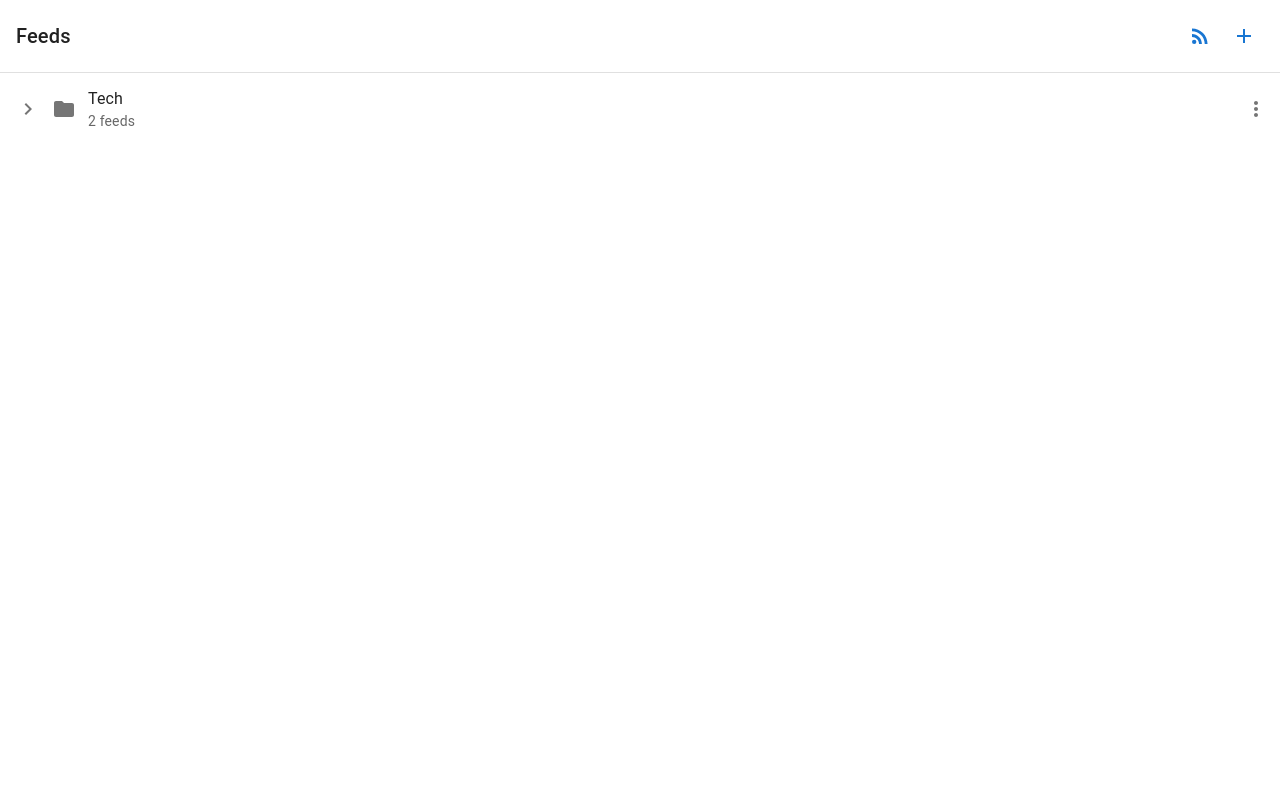
Test: CategoryList › category editing › should open edit dialog when clicking edit button
Open context menu
Click the button named "category options": (1256, 109) [1236,89,1276,129]
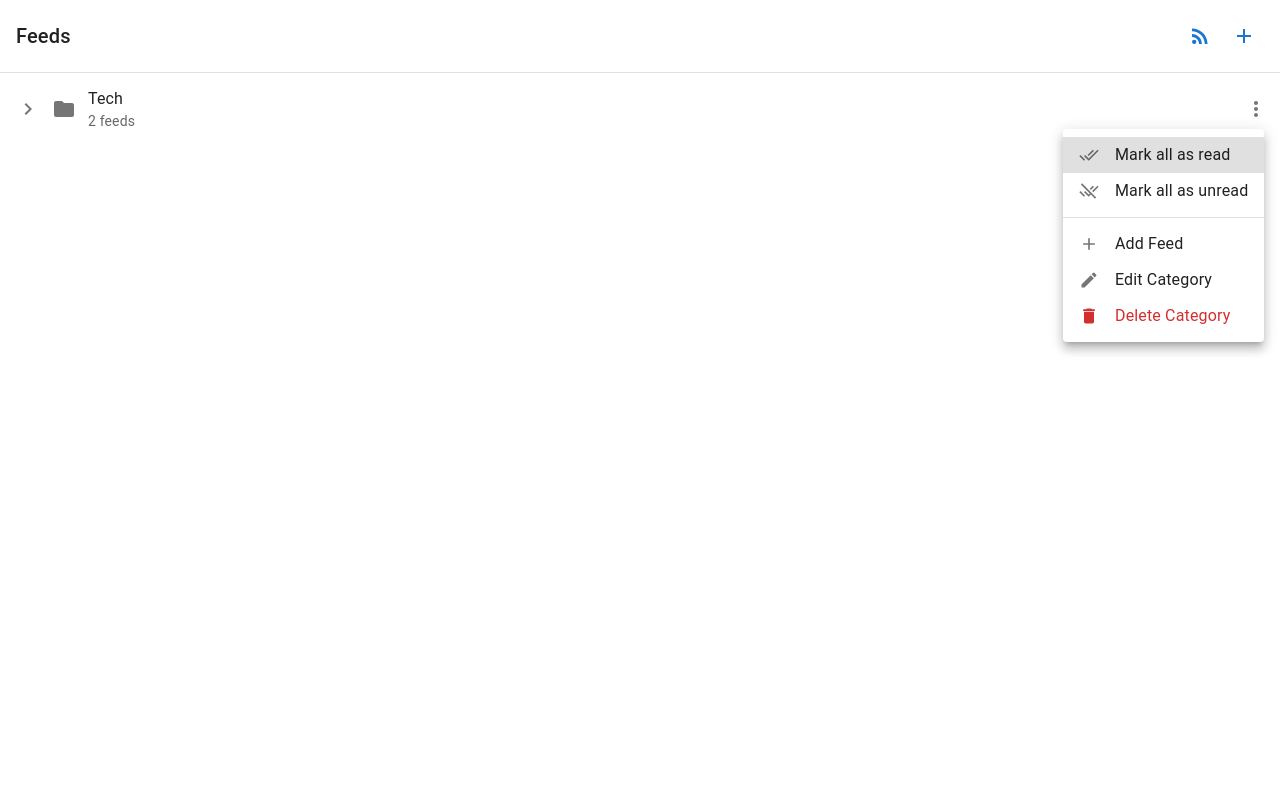
Click the menu item "Edit Category": (1146, 280) [1079,270,1212,290]
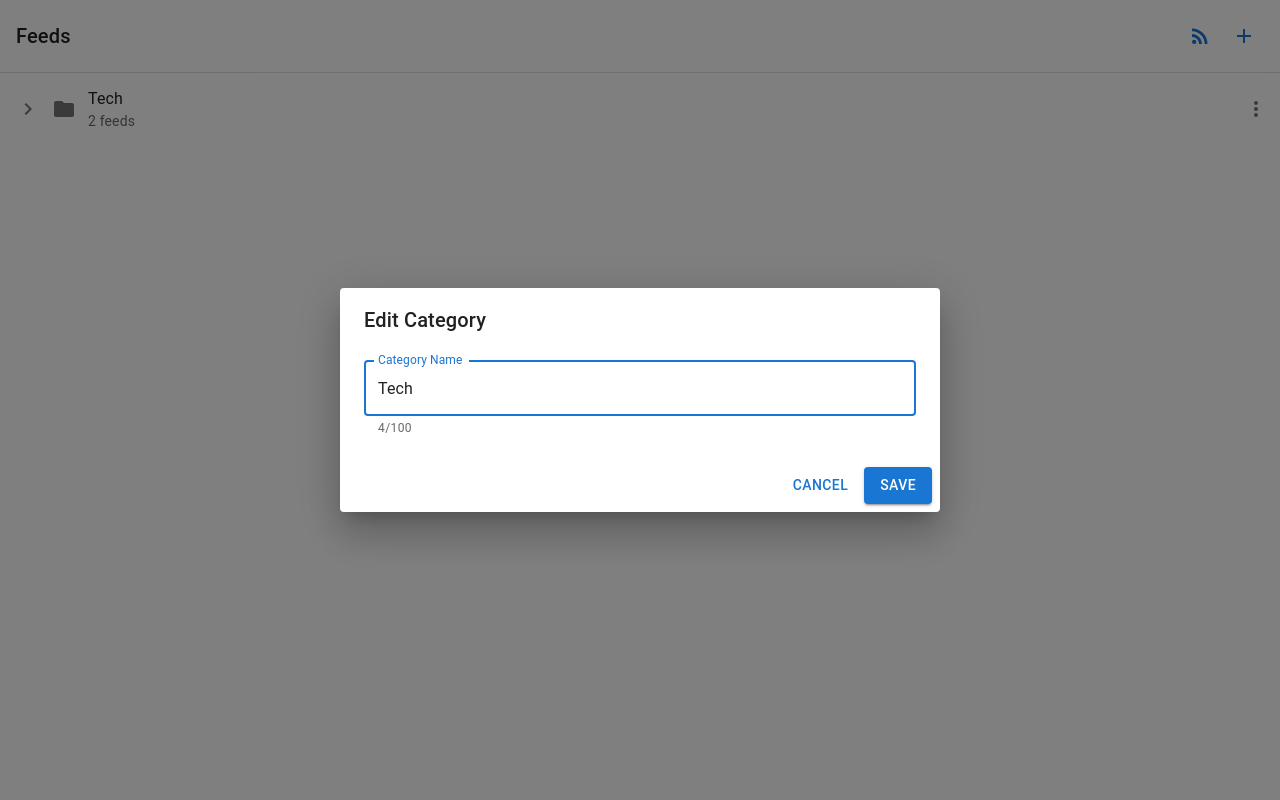
Check: the field labelled "Category Name" holds "Tech", box [364,360,916,416]
